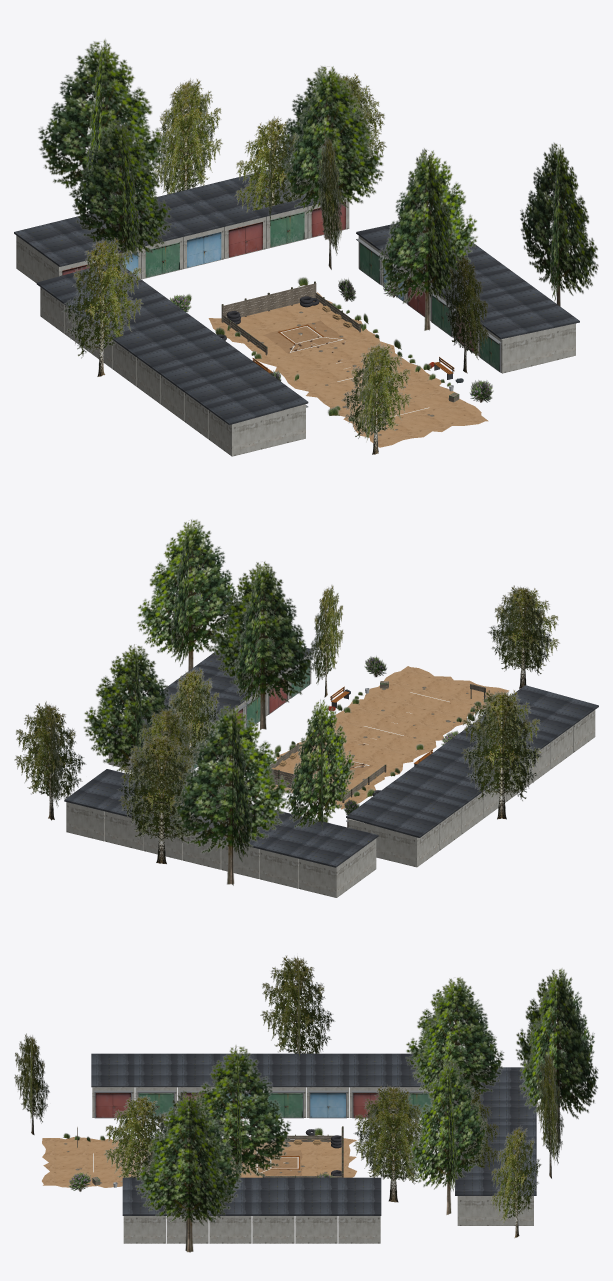
File: yard.glb
3 views of the same model, one above another, from view 1: azimuth 30°, elevation 25°; view 2: azimuth 150°, elevation 25°; view 3: azimuth 270°, elevation 25° (orthographic). The views are drawn at different scales.
Visible parts, largest first — view 1: court, tree10-1, tree3-1, tree1-1, tree8-0, tree7-1, tree6-0, tree6-1, tree4-0, tree9-1, tree5-1, tree1-0 (+41 smaller); view 2: court, tree10-0, tree8-1, tree1-1, tree6-1, tree3-0, tree11-1, tree7-1, tree7-0, tree9-0, tree9-1, tree5-0 (+38 smaller); view 3: tree1-0, tree8-0, tree6-0, court, tree10-0, tree3-0, tree7-0, tree8-1, tree10-1, tree3-1, tree0-0, tree11-0 (+42 smaller).
Part boxes in pixels (x1=…): court: x1=208, y1=292, x2=488, y2=447; tree10-1: x1=38, y1=41, x2=167, y2=199; tree3-1: x1=71, y1=119, x2=171, y2=264; tree1-1: x1=379, y1=150, x2=477, y2=330; tree8-0: x1=520, y1=142, x2=598, y2=306; tree7-1: x1=61, y1=237, x2=143, y2=376; tree6-0: x1=276, y1=66, x2=384, y2=237; tree6-1: x1=284, y1=66, x2=373, y2=239; tree4-0: x1=234, y1=116, x2=299, y2=212; tree9-1: x1=154, y1=79, x2=222, y2=194; tree5-1: x1=341, y1=344, x2=411, y2=454; tree1-0: x1=398, y1=148, x2=458, y2=330; court: x1=269, y1=666, x2=509, y2=809; tree10-0: x1=172, y1=705, x2=290, y2=884; tree8-1: x1=137, y1=519, x2=242, y2=670; tree1-1: x1=210, y1=562, x2=313, y2=729; tree6-1: x1=83, y1=645, x2=185, y2=773; tree3-0: x1=286, y1=699, x2=354, y2=828; tree11-1: x1=14, y1=703, x2=86, y2=819; tree7-1: x1=461, y1=690, x2=542, y2=819; tree7-0: x1=462, y1=690, x2=541, y2=819; tree9-0: x1=117, y1=735, x2=202, y2=863; tree9-1: x1=118, y1=735, x2=198, y2=864; tree5-0: x1=487, y1=586, x2=559, y2=688; tree1-0: x1=195, y1=1046, x2=291, y2=1177; tree8-0: x1=135, y1=1091, x2=242, y2=1252; tree6-0: x1=408, y1=1059, x2=487, y2=1214; court: x1=42, y1=1137, x2=356, y2=1187; tree10-0: x1=516, y1=969, x2=598, y2=1143; tree3-0: x1=405, y1=978, x2=504, y2=1094; tree7-0: x1=260, y1=955, x2=335, y2=1054; tree8-1: x1=146, y1=1090, x2=231, y2=1252; tree10-1: x1=519, y1=968, x2=594, y2=1142; tree3-1: x1=412, y1=977, x2=496, y2=1102; tree0-0: x1=353, y1=1085, x2=421, y2=1202; tree11-0: x1=490, y1=1125, x2=541, y2=1238.
Size of what is drawn, in the model's own units: 35.78 by 14 by 42.91.
Materials: 27 (21 with a texture image).
